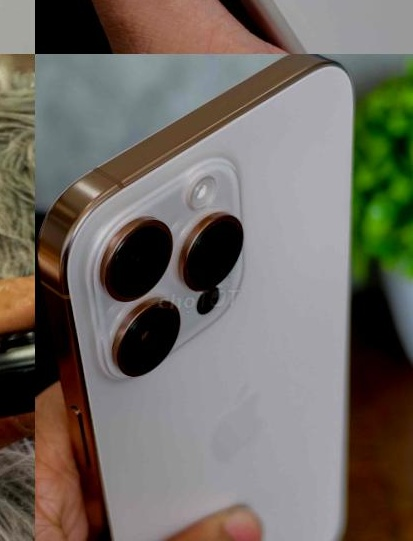scratch: (7, 360, 35, 383)
